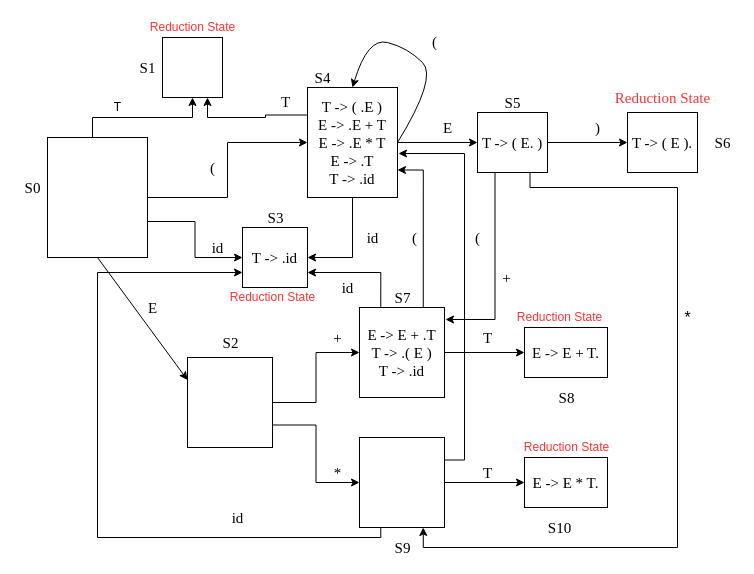
Image size: 754x574. Some labels were removed from this diagram. The shapes that lost their labels are listed below. From the top down, each one's centre as x and y in pixels, then its label:
At [192,67]: "E -> T.".
At [97,197]: "S' -> .E E -> .E +T E -> .E * T E -> T T -> .( E ) T -> id".
At [229,402]: "S' -> E.$ E -> E. + T E -> E. * T".
At [401,482]: "E -> E * .T T -> .( E ) T -> .id".
